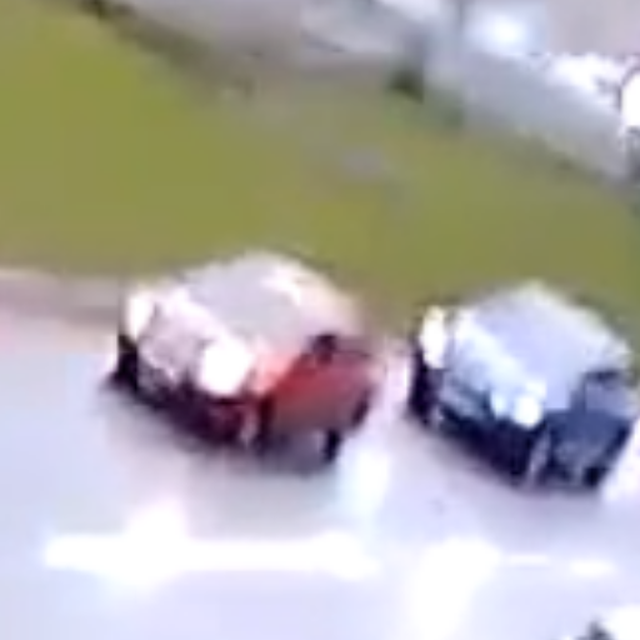car: (119, 251, 378, 461), (405, 280, 638, 490)
